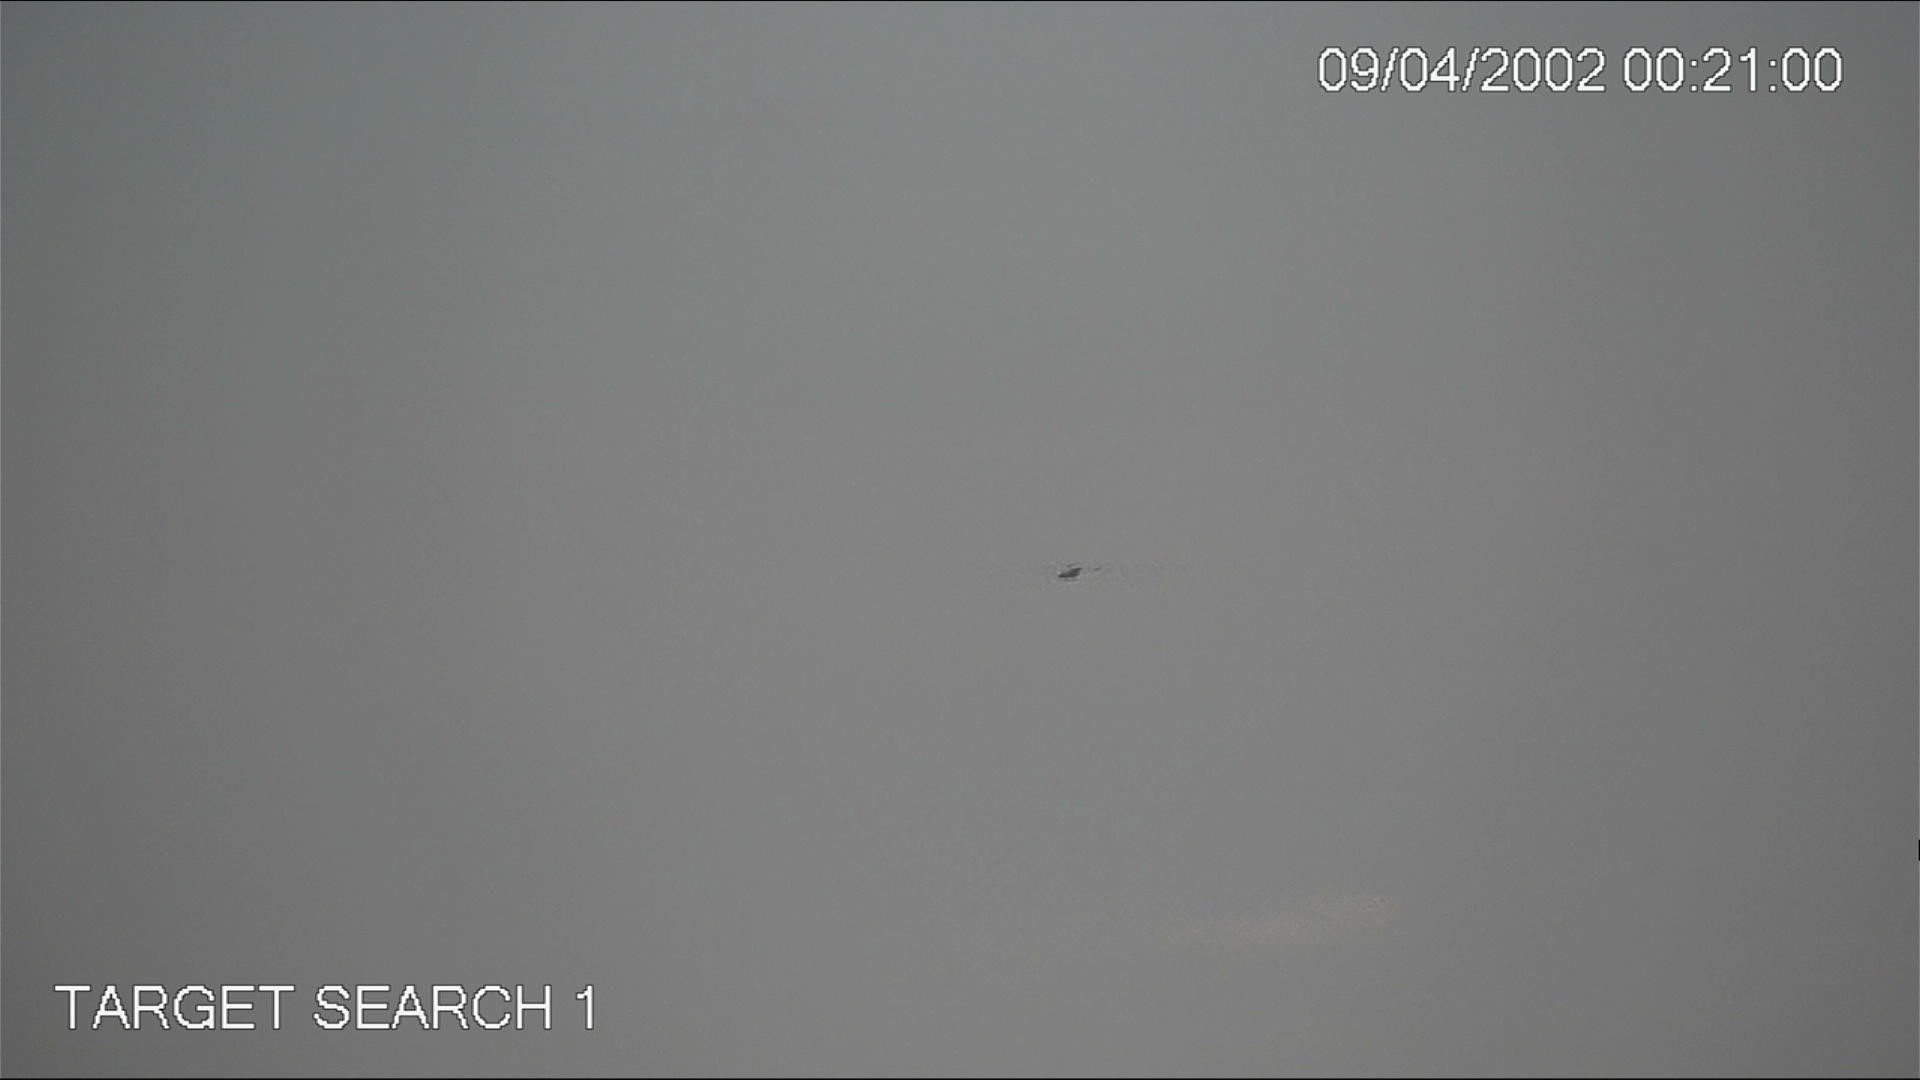SU_30: (1055, 559, 1088, 582)
